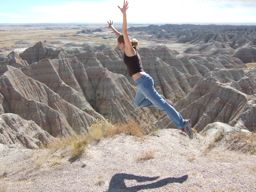person: (107, 2, 197, 140)
